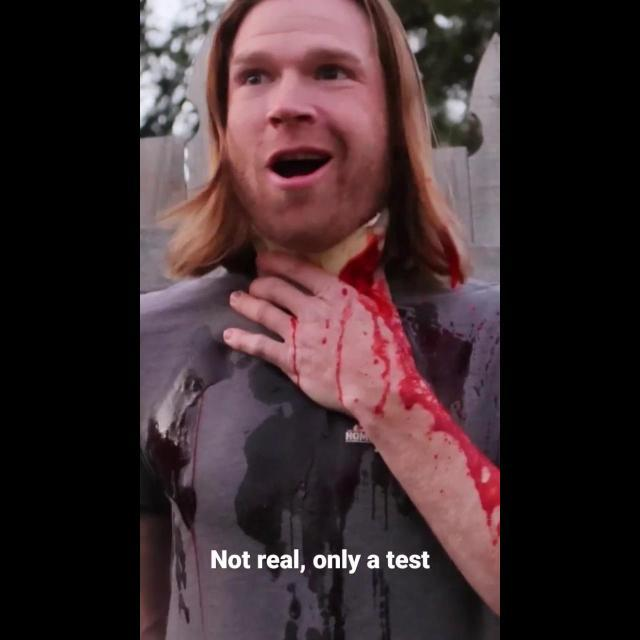blood: (312, 241, 500, 548), (429, 229, 470, 288), (290, 316, 300, 387)
